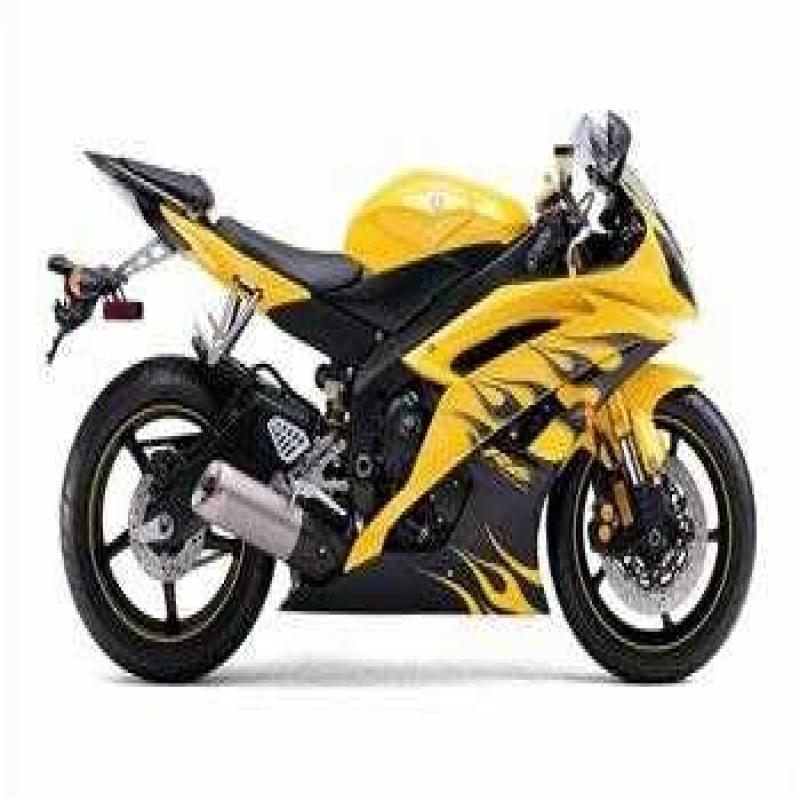bike: (38, 63, 768, 714)
